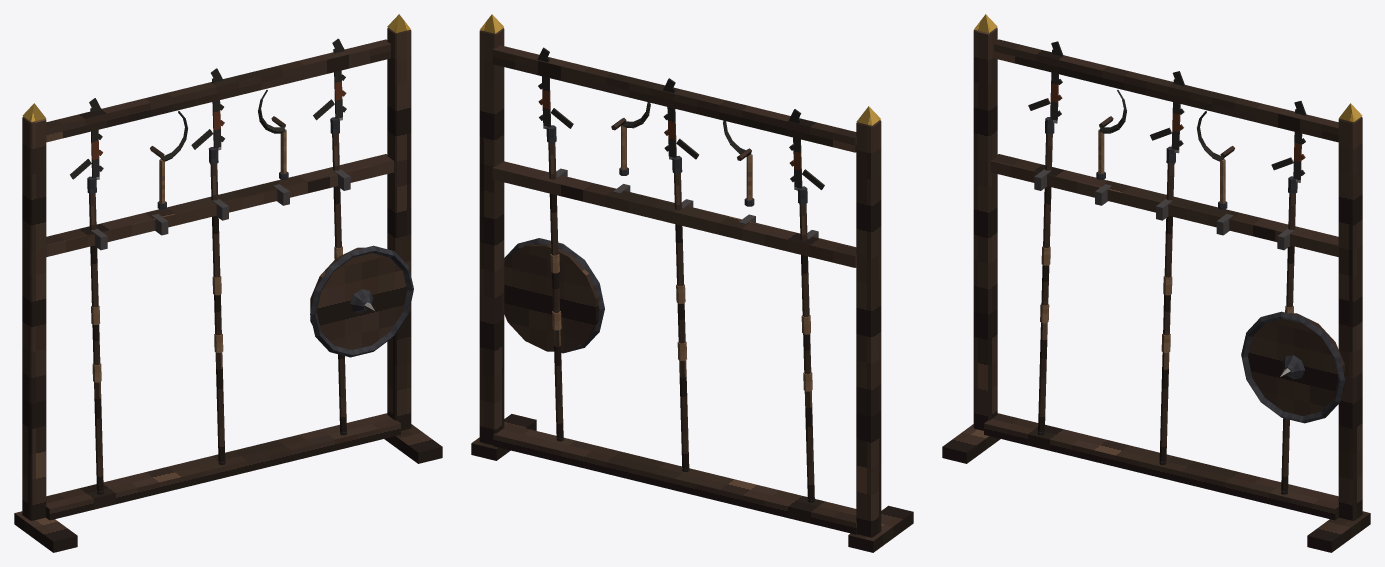
File: guard_weapon_rack.obj
3 renders of one model, left to right at view 1: azimuth 30°, elevation 25°; view 2: azimuth 150°, elevation 25°; view 3: azimuth 330°, elevation 25°, orthographic. The views are drawn at different scales.
Parts seen in each view (by area): view 1: guard_weapon_rack; view 2: guard_weapon_rack; view 3: guard_weapon_rack.
Boxes of the visible parts, x1,y1,x2,y2 form: guard_weapon_rack: [14, 14, 442, 552]; guard_weapon_rack: [471, 14, 913, 552]; guard_weapon_rack: [942, 14, 1370, 552].
Bounding box in the file's own units: 2.88 × 3 × 0.5.
